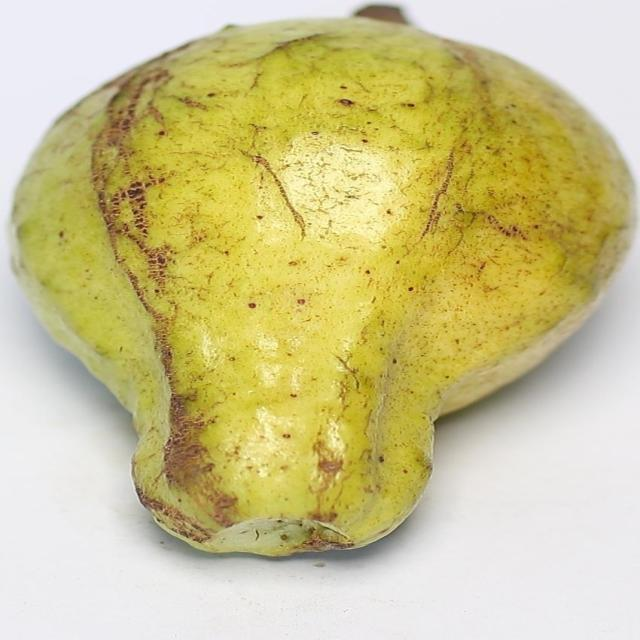Good_Guava: (7, 15, 635, 562)
